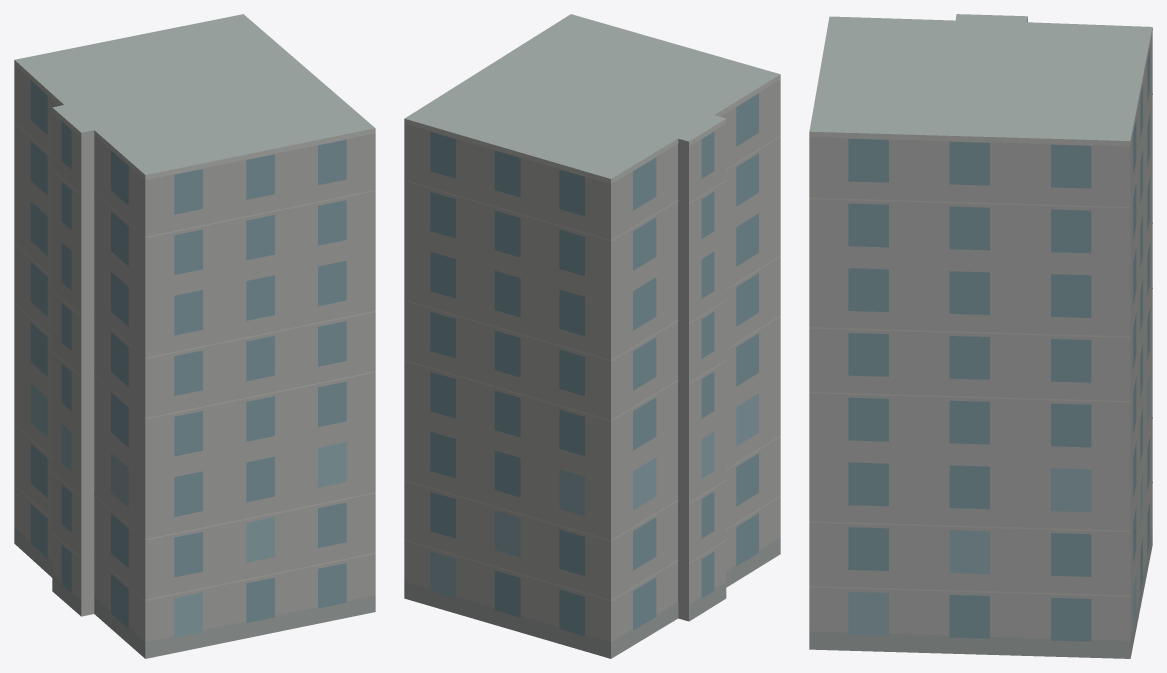
The model's file is survey-upis-32663977.glb.
The picture shows the model from 3 angles, left to right: view 1: azimuth 30°, elevation 25°; view 2: azimuth 150°, elevation 25°; view 3: azimuth 270°, elevation 25°; orthographic projection. The views are drawn at different scales.
Parts seen in each view (by area): view 1: survey-upis-32663977.tmp; view 2: survey-upis-32663977.tmp; view 3: survey-upis-32663977.tmp.
Boxes of the visible parts, x1,y1,x2,y2 form: survey-upis-32663977.tmp: (14, 14, 375, 658); survey-upis-32663977.tmp: (404, 14, 780, 658); survey-upis-32663977.tmp: (809, 14, 1152, 658).
Bounding box in the file's own units: 12.18 × 23.1 × 13.91.
